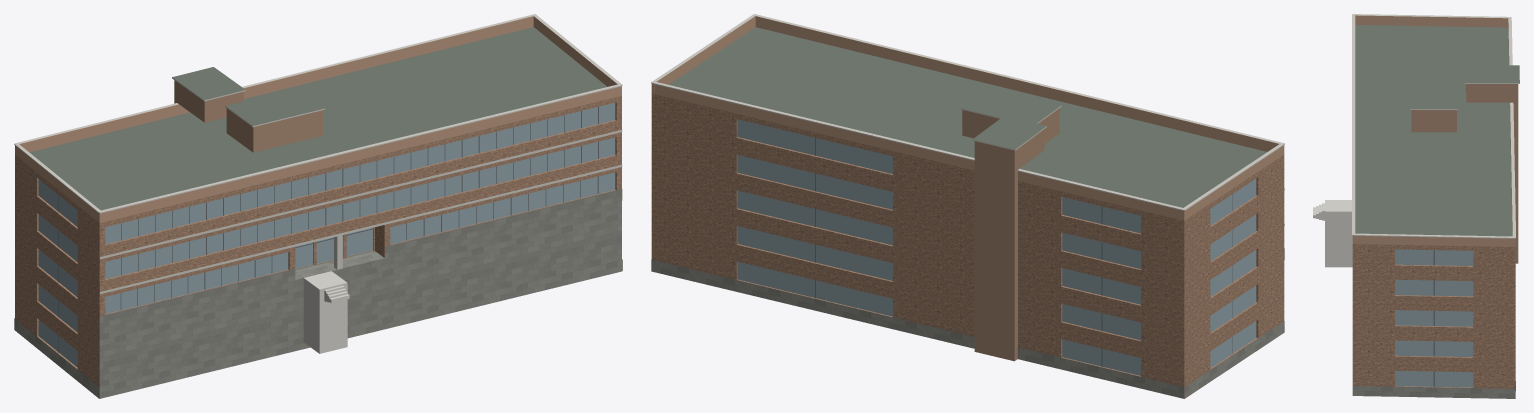
The picture shows the model from 3 angles, left to right: view 1: azimuth 30°, elevation 25°; view 2: azimuth 150°, elevation 25°; view 3: azimuth 270°, elevation 25°; orthographic projection. The views are drawn at different scales.
Visible parts, largest first — view 1: b18__base, b18__roof, b18__wall, b18__glass, b18__parapet, b18__trim, b18__wall2, b18__entranceStair, b18__frame; view 2: b18__wall, b18__roof, b18__glass, b18__parapet, b18__wall2, b18__base, b18__trim; view 3: b18__roof, b18__wall, b18__glass, b18__parapet, b18__wall2, b18__trim, b18__entranceStair, b18__base.
Boxes of the visible parts, x1,y1,x2,y2 form: b18__base: (14, 189, 622, 398); b18__roof: (29, 27, 621, 398); b18__wall: (15, 96, 621, 398); b18__glass: (38, 103, 615, 367); b18__parapet: (15, 16, 621, 222); b18__trim: (14, 14, 622, 294); b18__wall2: (174, 80, 322, 152); b18__entranceStair: (303, 271, 349, 353); b18__frame: (58, 106, 598, 352); b18__wall: (651, 93, 1284, 398); b18__roof: (668, 27, 1266, 207); b18__glass: (737, 119, 1256, 375); b18__parapet: (651, 16, 1284, 220); b18__wall2: (962, 108, 1059, 361); b18__base: (651, 248, 1284, 398); b18__trim: (651, 14, 1284, 225); b18__roof: (1355, 24, 1519, 236); b18__wall: (1352, 244, 1515, 388); b18__glass: (1395, 249, 1473, 387); b18__parapet: (1352, 15, 1515, 246); b18__wall2: (1411, 84, 1518, 263); b18__trim: (1352, 14, 1519, 238); b18__entranceStair: (1313, 200, 1352, 267); b18__base: (1352, 381, 1515, 398).
Size of the model in its own units: 56.96 by 21.53 by 22.23.
11 materials, 2 textured.
